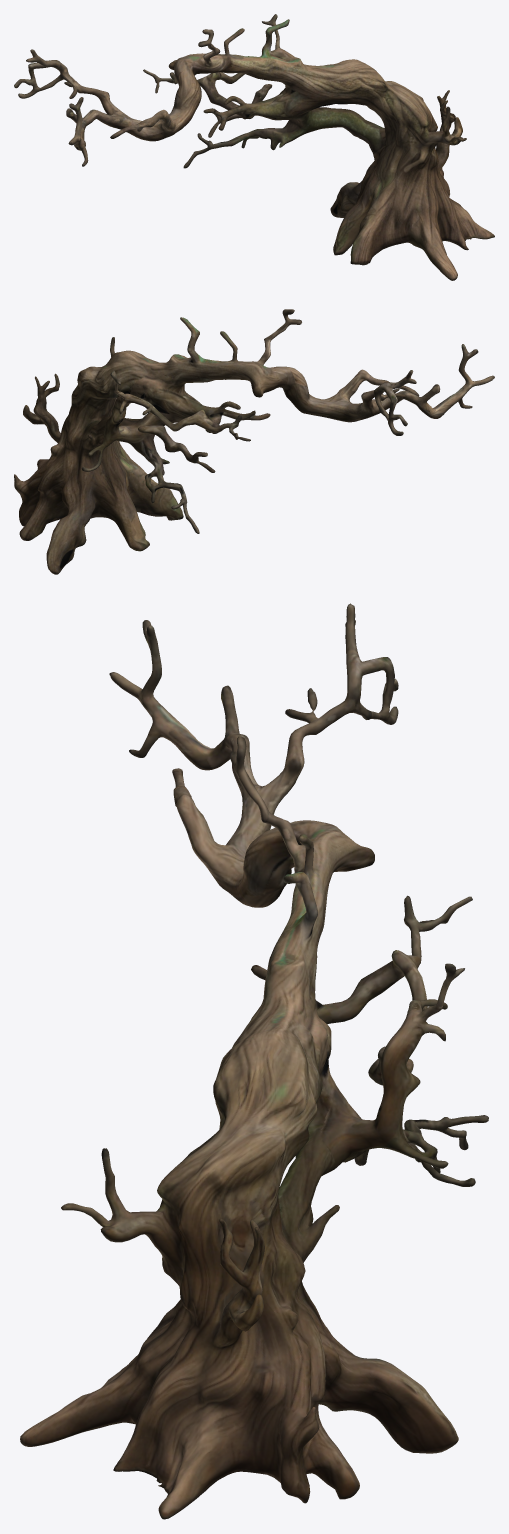
The model's file is Twisted_Branches_0423155754.fbx.
The picture shows the model from 3 angles, top to bottom: view 1: azimuth 30°, elevation 25°; view 2: azimuth 150°, elevation 25°; view 3: azimuth 270°, elevation 25°; orthographic projection. The views are drawn at different scales.
Parts seen in each view (by area): view 1: Mesh_0; view 2: Mesh_0; view 3: Mesh_0.
Part boxes in pixels (x1,y1,x2,y2): Mesh_0: (14,14,494,280); Mesh_0: (14,309,494,574); Mesh_0: (20,603,488,1519).
Bounding box in the file's own units: 200 × 117 × 92.91.
1 material, 1 textured.
